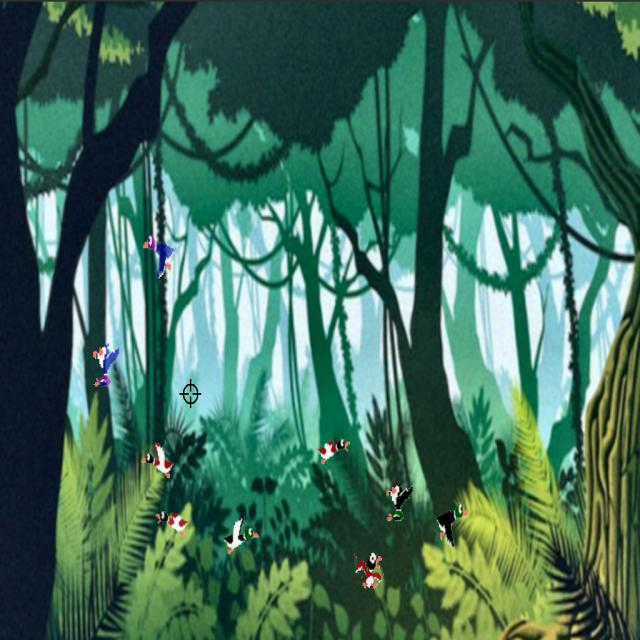duck: (139, 227, 182, 286), (432, 494, 472, 551), (220, 509, 260, 562), (315, 426, 353, 470), (140, 436, 178, 480), (155, 500, 190, 542)
falling_duck: (348, 541, 389, 601), (92, 336, 120, 396), (385, 474, 413, 534)
